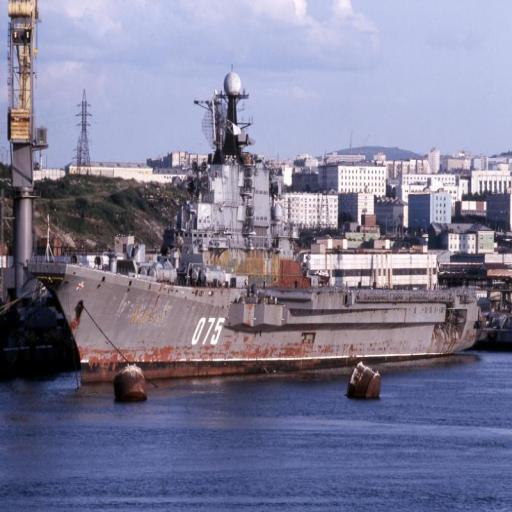Portanaves: (28, 61, 494, 399)
